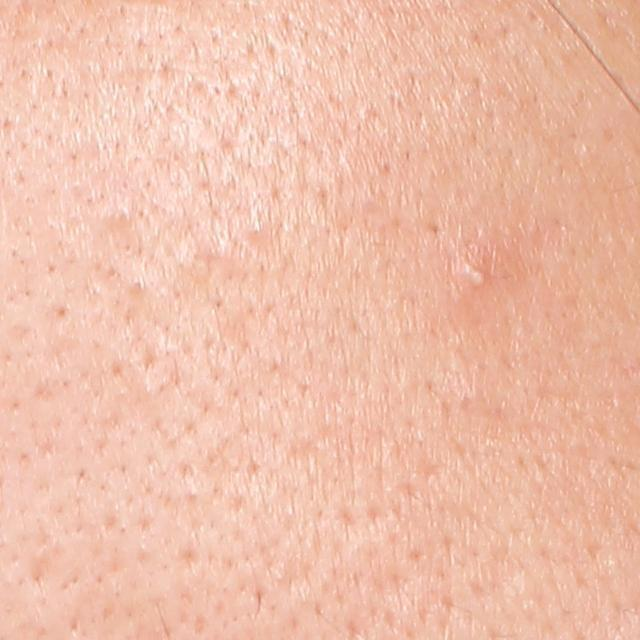comedo: (111, 204, 131, 227)
pustule: (460, 261, 490, 295)
